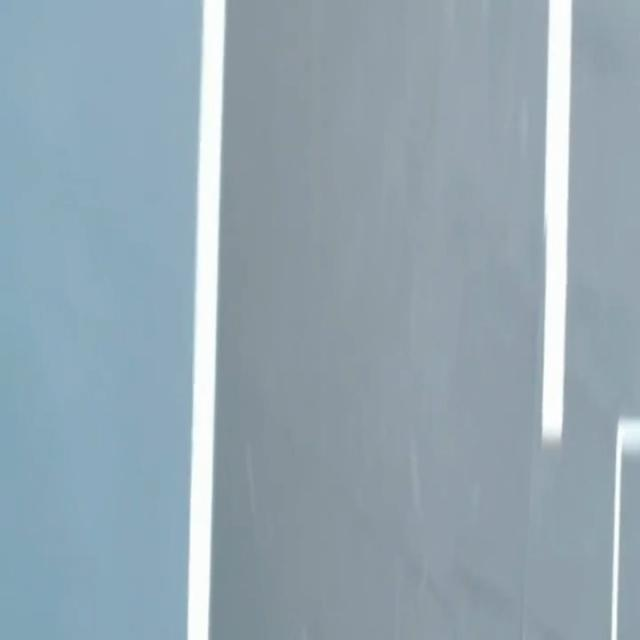center: (541, 0, 572, 444)
left: (188, 0, 225, 639)
